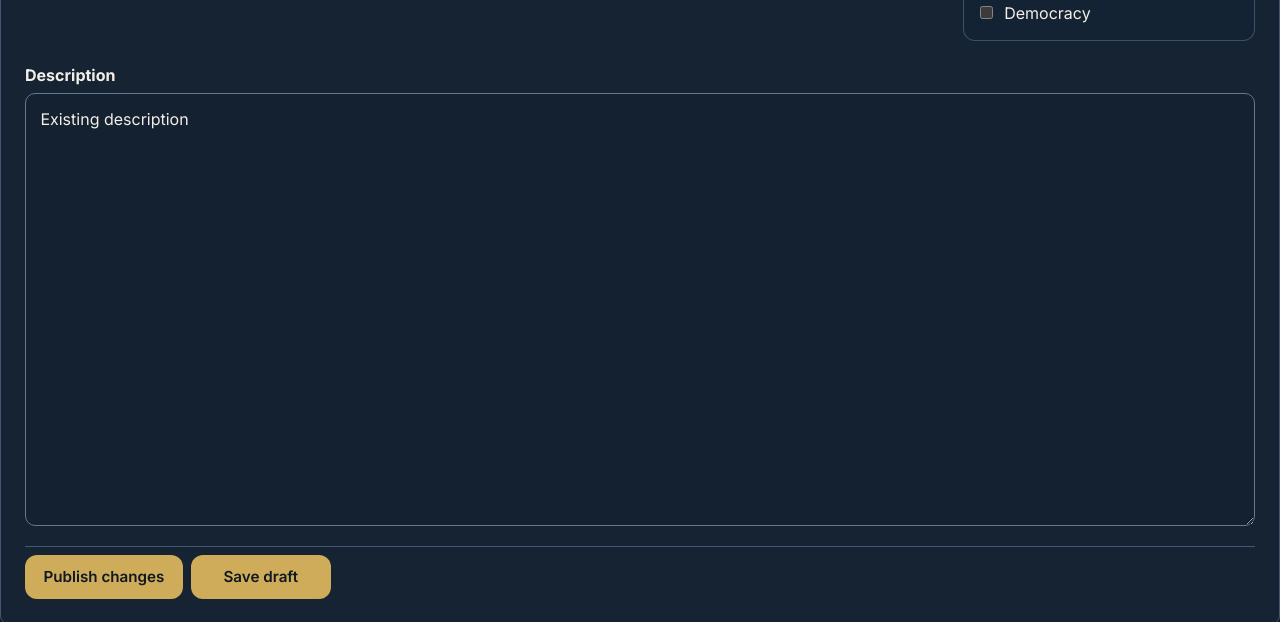
ActionEditorForm › maps API validation errors to inline field errors and scrolls to the first invalid field
The width and height of the screenshot is (1280, 622).
(page scrolled)
Click the button "Publish changes".
click(104, 577)  # box [25,555,183,599]
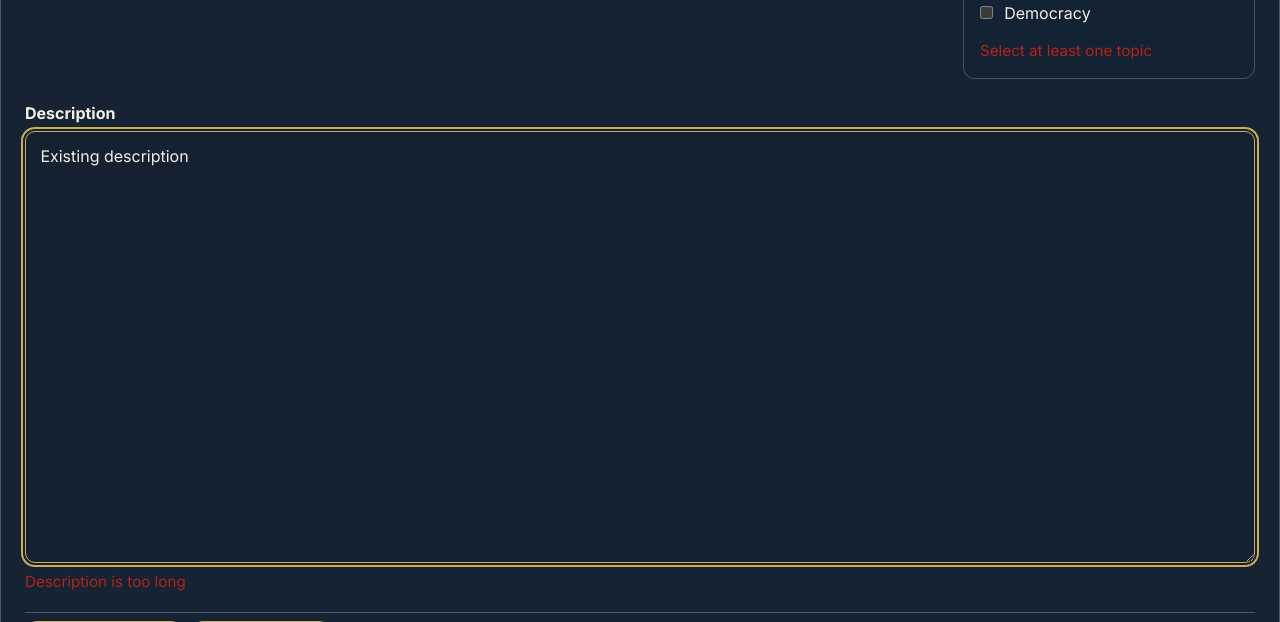
Expected: the text "Description is too long" is shown, [25,572,186,591]
Expected: the text "Select at least one topic" is shown, [980,41,1152,60]
